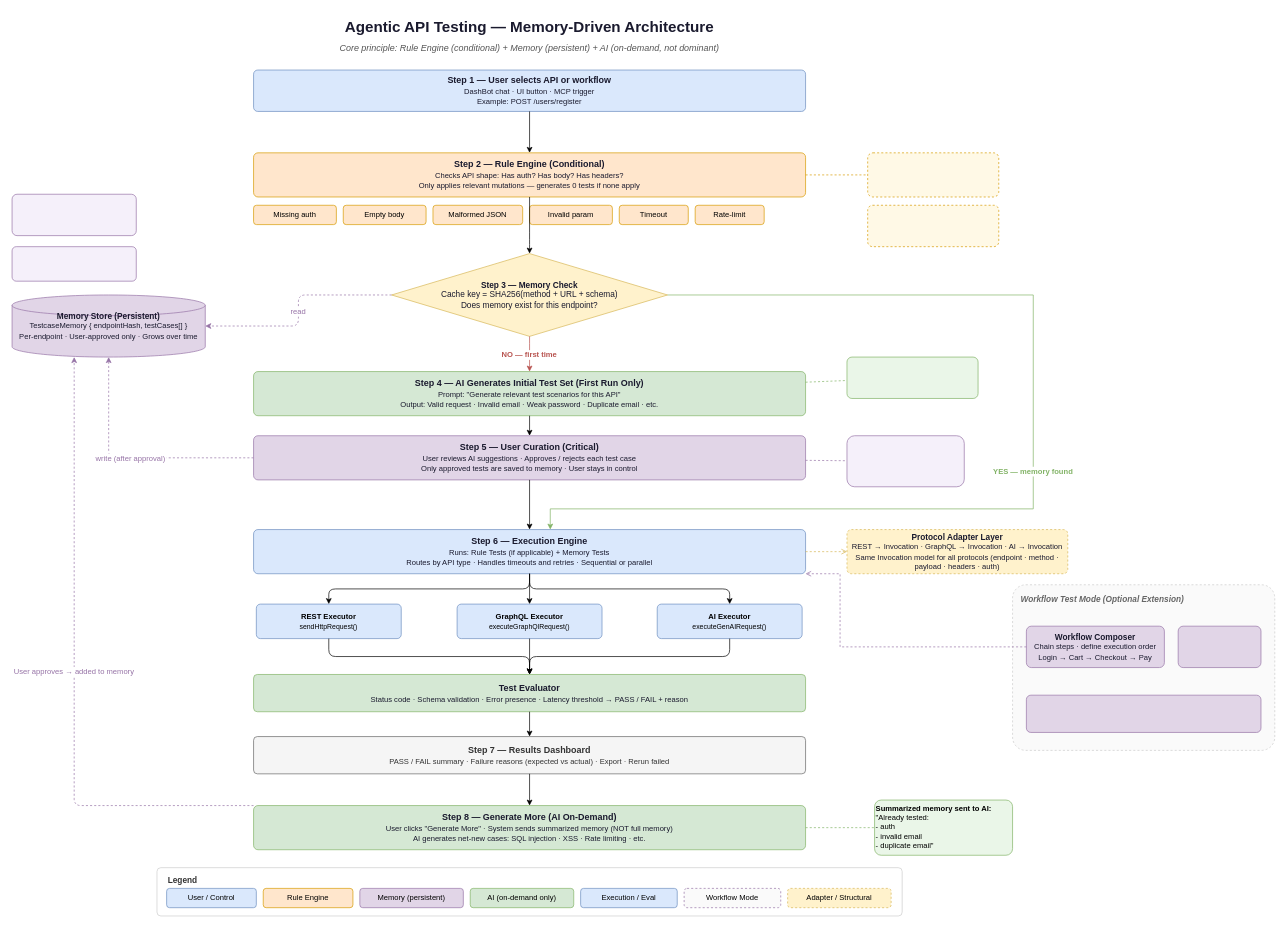
The diagram is 1287 pixels wide and 928 high, and some of its shapes have lost their labels. The shapes that lost their labels are listed below. From the top down, each one's centre as x and y in pixels, then its label:
pixel 933 174: POST /users/register Has auth ✅ Has body ✅ → Generates 3+ tests
pixel 73 215: ⚠ API schema changes → hash mismatch → memory invalidated
pixel 933 226: GET /health-check No auth ❌ No body ❌ → Generates 0 tests
pixel 73 263: Memory grows: 5 → 8 → 12 → 20 tests
pixel 912 377: AI is called ONCE per endpoint Not on every run. Cost-efficient + consistent.
pixel 905 461: ☑ Valid request ☑ Invalid email ☐ Weak password ☑ Duplicate email
pixel 1219 646: WorkflowContext State store: token → next request Passes data between steps
pixel 1143 713: Workflow Evaluator End-to-end outcome + step-level Data integrity across steps
